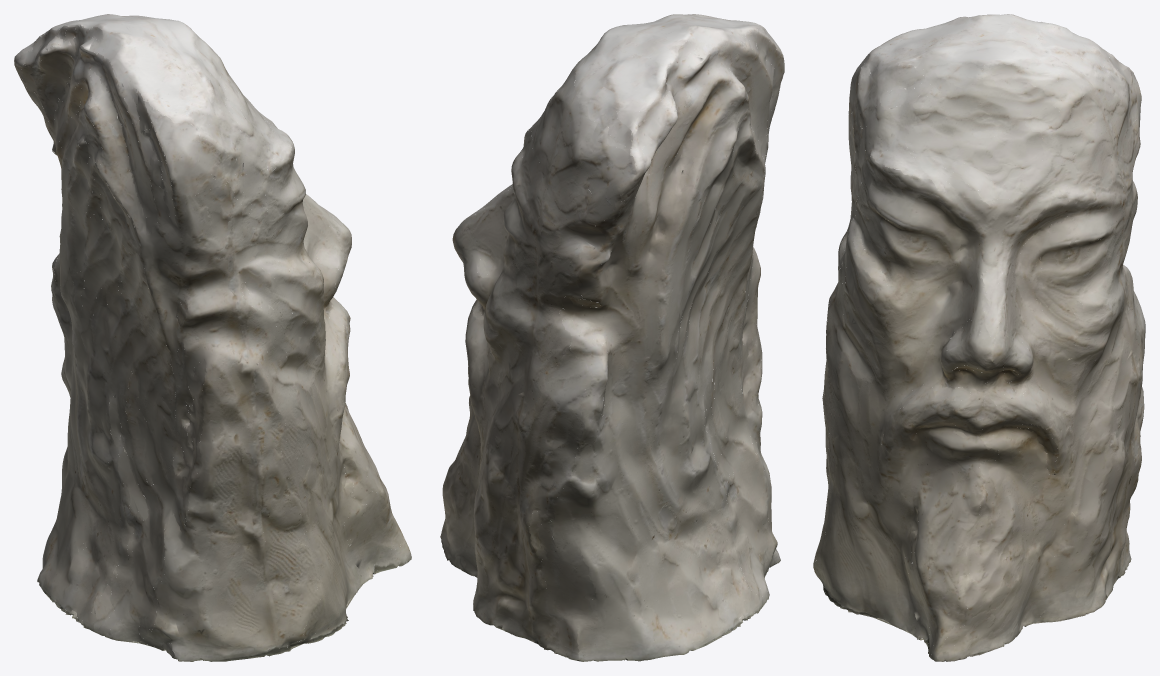
The model's file is soonsin.glb.
3 renders of one model, left to right at view 1: azimuth 30°, elevation 25°; view 2: azimuth 150°, elevation 25°; view 3: azimuth 270°, elevation 25°, orthographic. The views are drawn at different scales.
Parts seen in each view (by area): view 1: Mesh_0_Part_0; view 2: Mesh_0_Part_0; view 3: Mesh_0_Part_0.
Part boxes in pixels (bbox=[...]): Mesh_0_Part_0: bbox=[14, 14, 411, 661]; Mesh_0_Part_0: bbox=[440, 14, 784, 661]; Mesh_0_Part_0: bbox=[813, 14, 1145, 661].
Size of the model in its own units: 1.24 by 2.14 by 1.22.
1 material, 1 textured.
